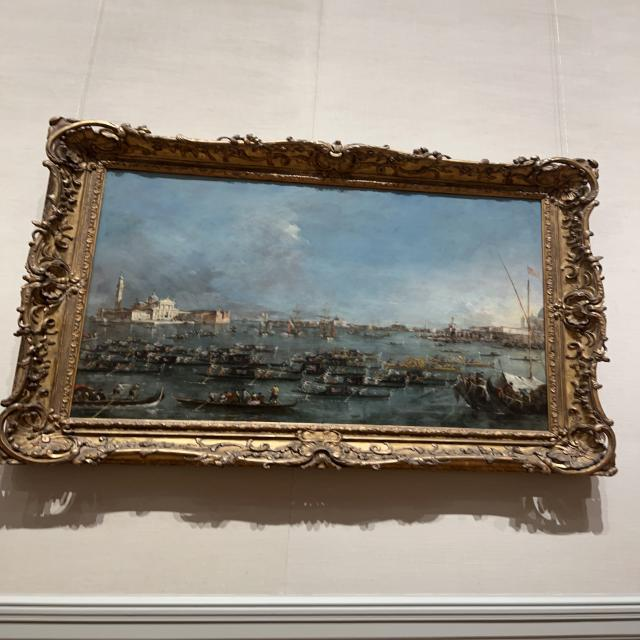ships: (82, 181, 542, 419)
